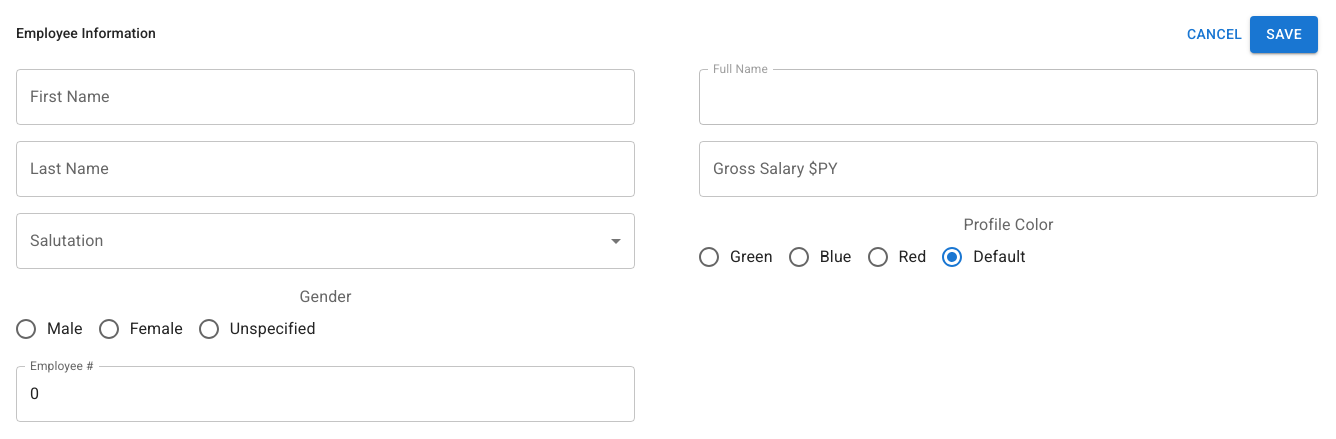
Scenario: Form Input Handling › should format salary input correctly
Step 1. Type "75000" into the field labelled "Gross Salary $PY" → (1008, 168), box [699,140,1318,196]
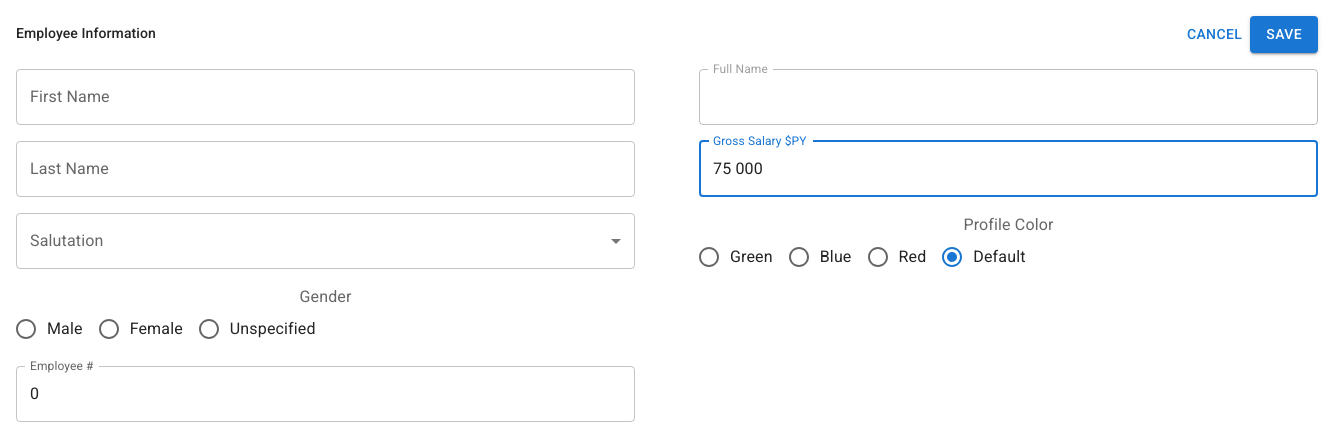
Expected: the field labelled "Gross Salary $PY" holds "75 000", [699,140,1318,196]
